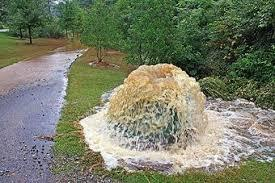drainage_overflow: (64, 49, 236, 163)
